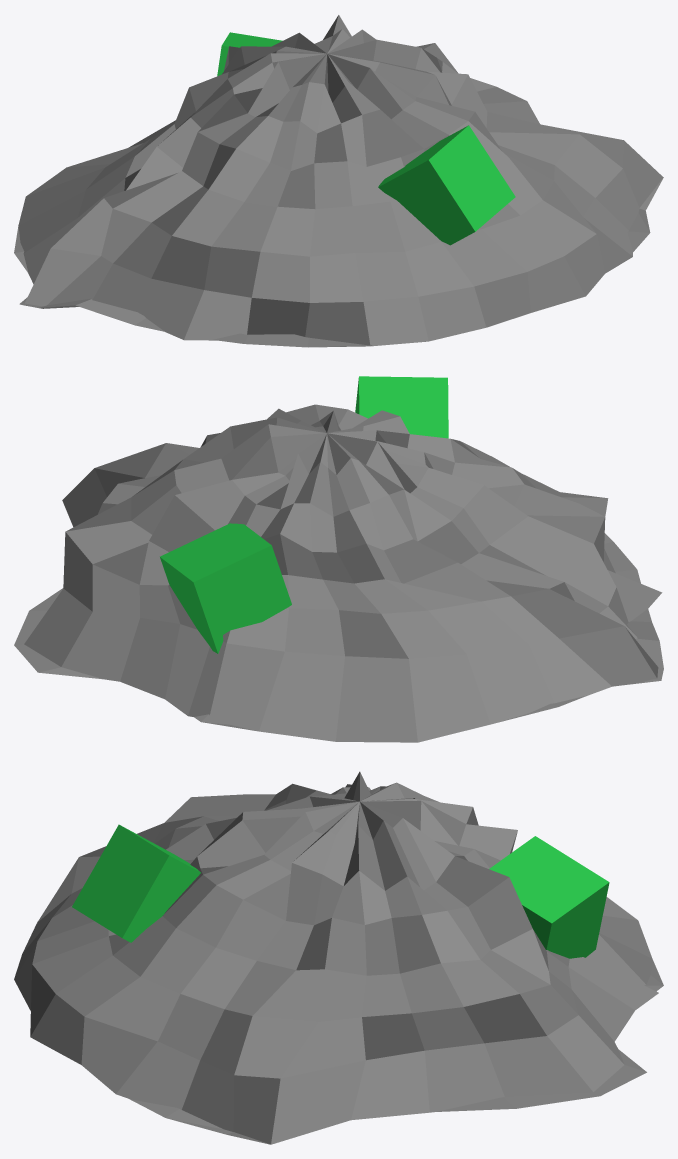
The model's file is halfEmptyRock.fbx.
The picture shows the model from 3 angles, top to bottom: view 1: azimuth 30°, elevation 25°; view 2: azimuth 150°, elevation 25°; view 3: azimuth 270°, elevation 25°; orthographic projection. The views are drawn at different scales.
Visible parts, largest first — view 1: Sphere, Cube.001, Cube.005; view 2: Sphere, Cube.005, Cube.001; view 3: Sphere, Cube.005, Cube.001.
Part boxes in pixels (box(x1,y1,x2,y2)): Sphere: box(14, 15, 663, 347); Cube.001: box(378, 125, 515, 245); Cube.005: box(217, 32, 282, 76); Sphere: box(14, 404, 663, 742); Cube.005: box(160, 523, 291, 653); Cube.001: box(355, 376, 448, 438); Sphere: box(14, 771, 663, 1144); Cube.005: box(489, 836, 609, 958); Cube.001: box(72, 824, 200, 942).
Size of the model in its own units: 410 by 117 by 342.
